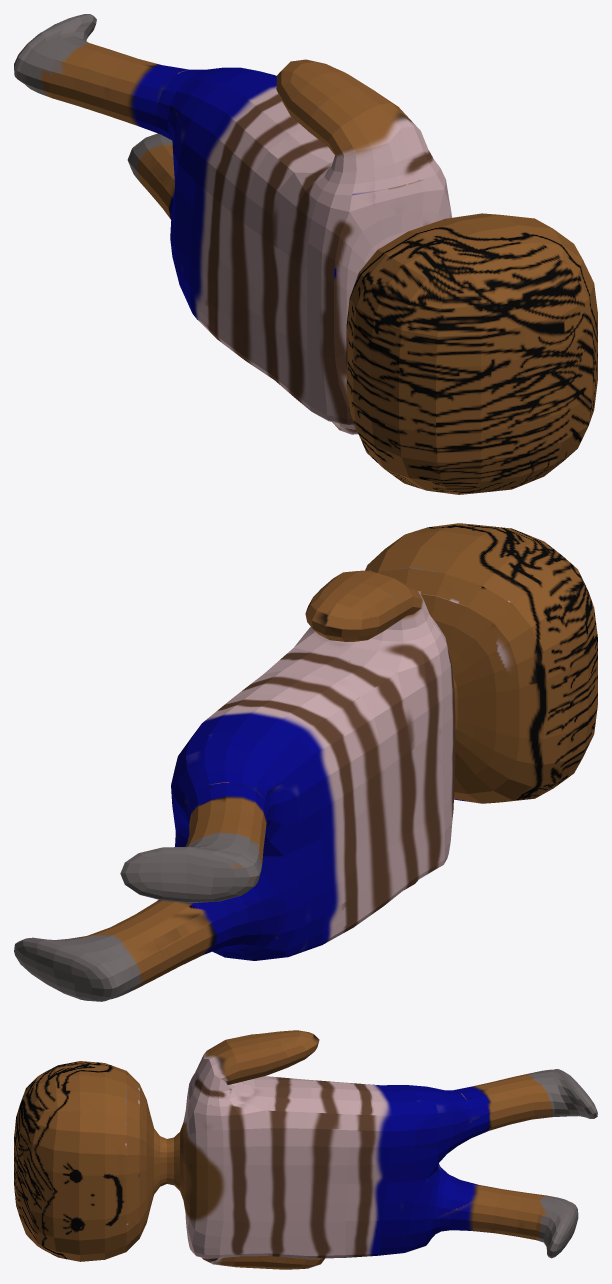
The model's file is antman_walk_3.obj.
3 views of the same model, one above another, from view 1: azimuth 30°, elevation 25°; view 2: azimuth 150°, elevation 25°; view 3: azimuth 270°, elevation 25° (orthographic). The views are drawn at different scales.
Parts seen in each view (by area): view 1: Cube; view 2: Cube; view 3: Cube.
Part boxes in pixels (x1,y1,x2,y2): Cube: [14, 14, 597, 494]; Cube: [14, 523, 597, 1001]; Cube: [14, 1030, 597, 1269].
Bounding box in the file's own units: 0.6579 × 0.8451 × 1.97.
